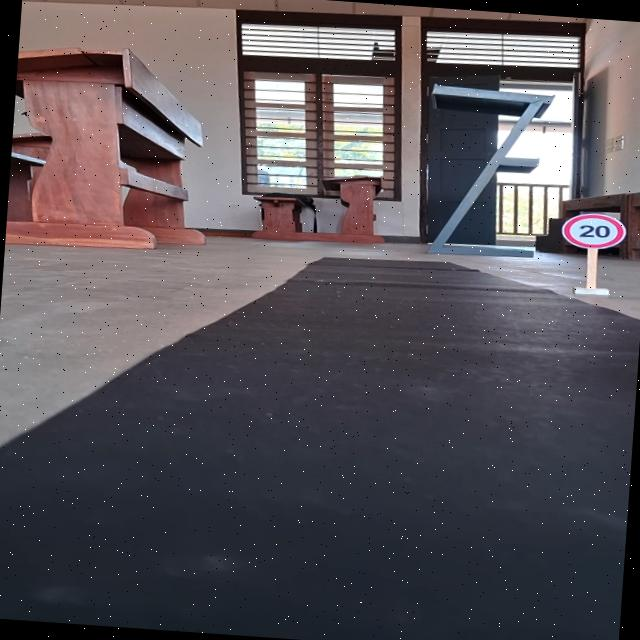Speed20: (556, 210, 632, 252)
